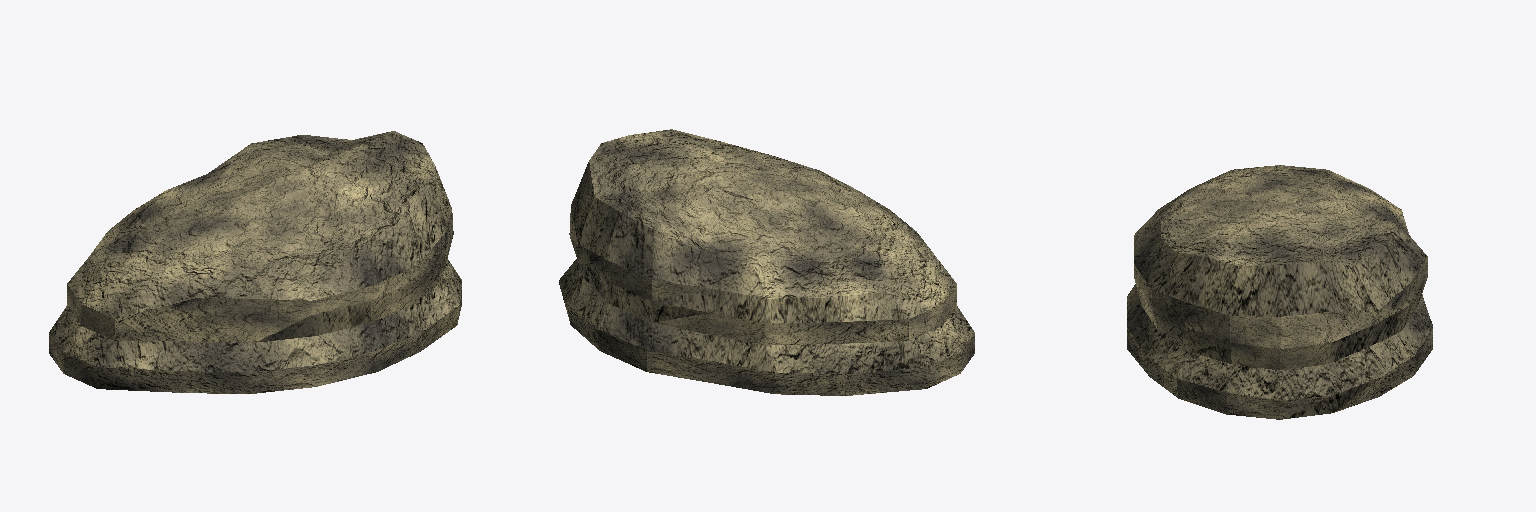
The picture shows the model from 3 angles: view 1: azimuth 30°, elevation 25°; view 2: azimuth 150°, elevation 25°; view 3: azimuth 270°, elevation 25°; orthographic projection.
Visible parts, largest first — view 1: Cylinder001; view 2: Cylinder001; view 3: Cylinder001.
Part boxes in pixels (left/top/right/bottom): Cylinder001: left=49, top=131, right=461, bottom=393; Cylinder001: left=559, top=129, right=974, bottom=395; Cylinder001: left=1127, top=165, right=1432, bottom=419.
Size of the model in its own units: 111 by 39.66 by 76.44.
1 materials, 1 textured.